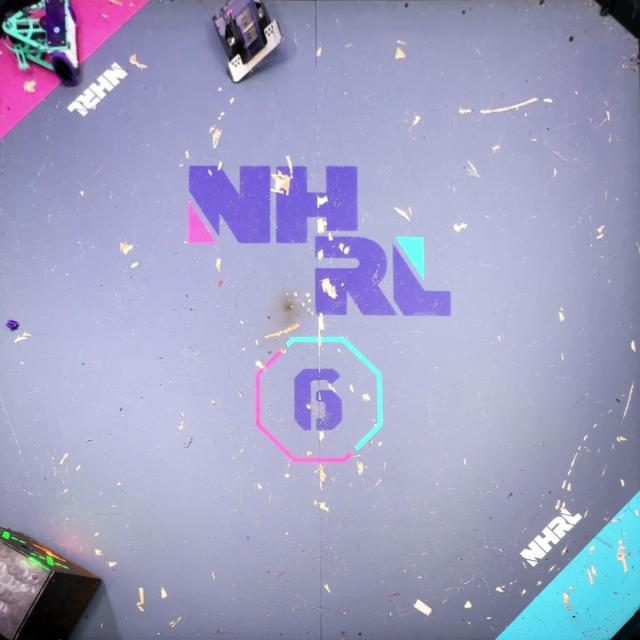housebot: (0, 527, 102, 640)
robot: (0, 0, 83, 87), (210, 0, 285, 84)
